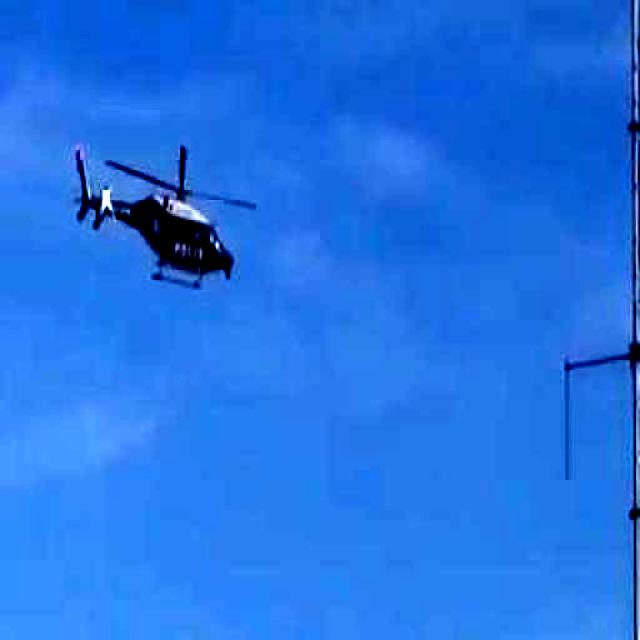drone: (46, 84, 272, 366)
